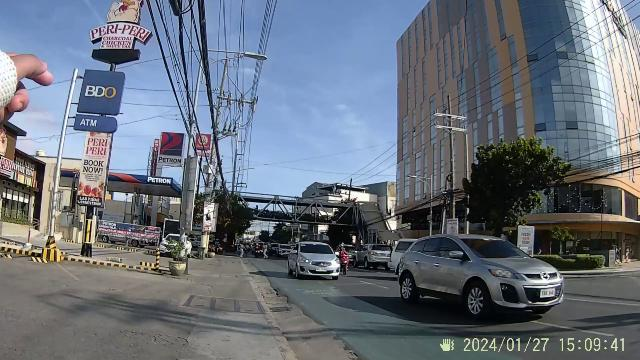car: (404, 225, 564, 327), (283, 236, 341, 282)
potted_plant: (168, 240, 192, 276)
utility_post: (432, 99, 472, 177)
